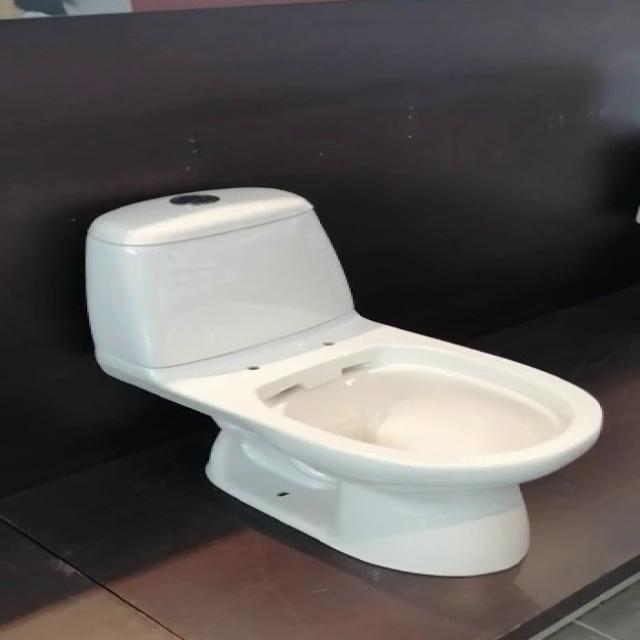toilet: (84, 185, 604, 577)
